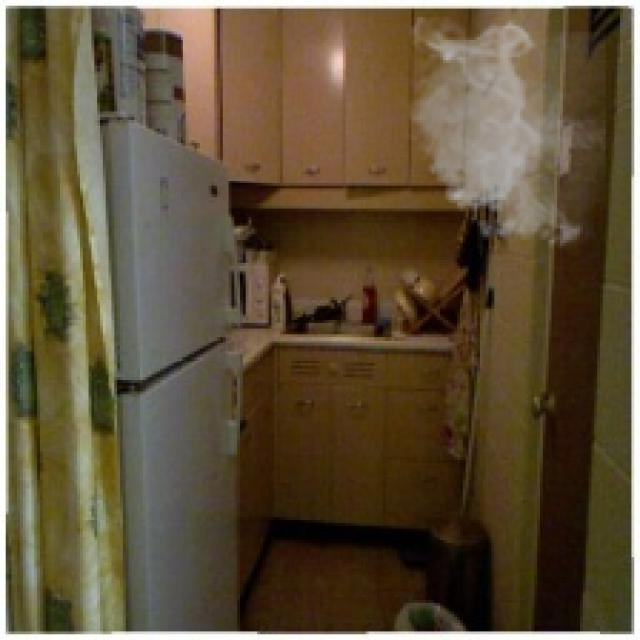Smoke: (400, 17, 606, 254)
